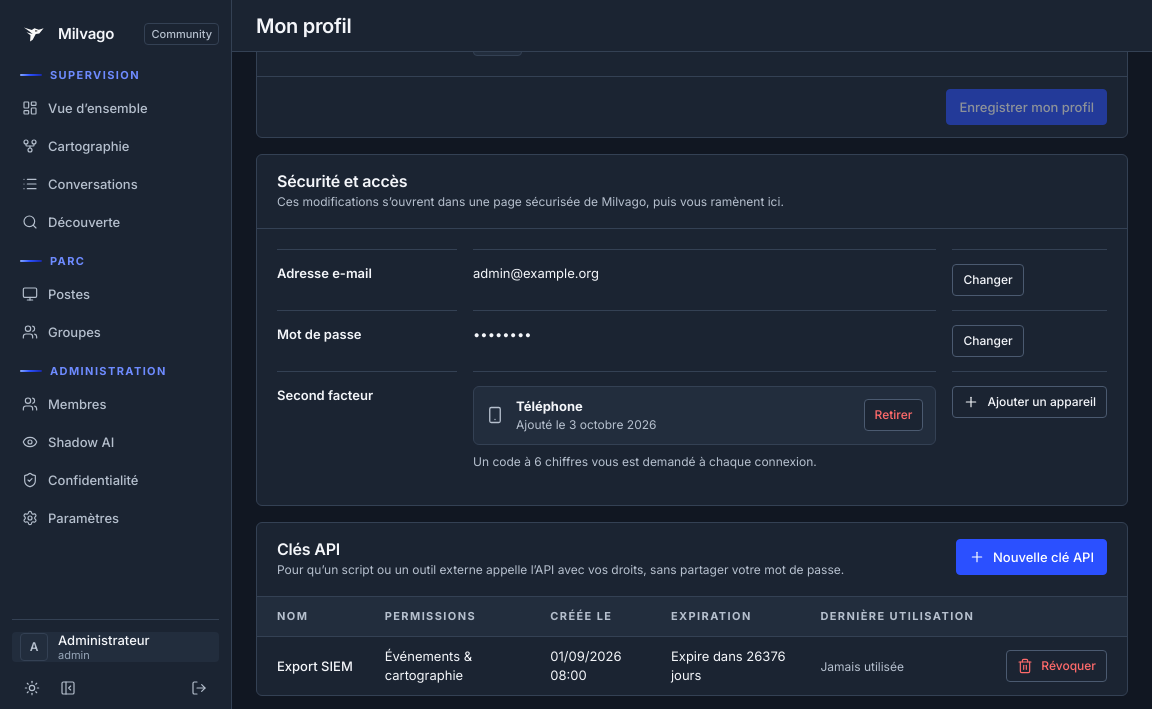
Test: Identity: API keys on the profile page › revokes a key after an inline confirmation
(page scrolled)
Click the button "Révoquer": (1057, 666) top-left (1006, 650), bottom-right (1107, 682)
(page scrolled)
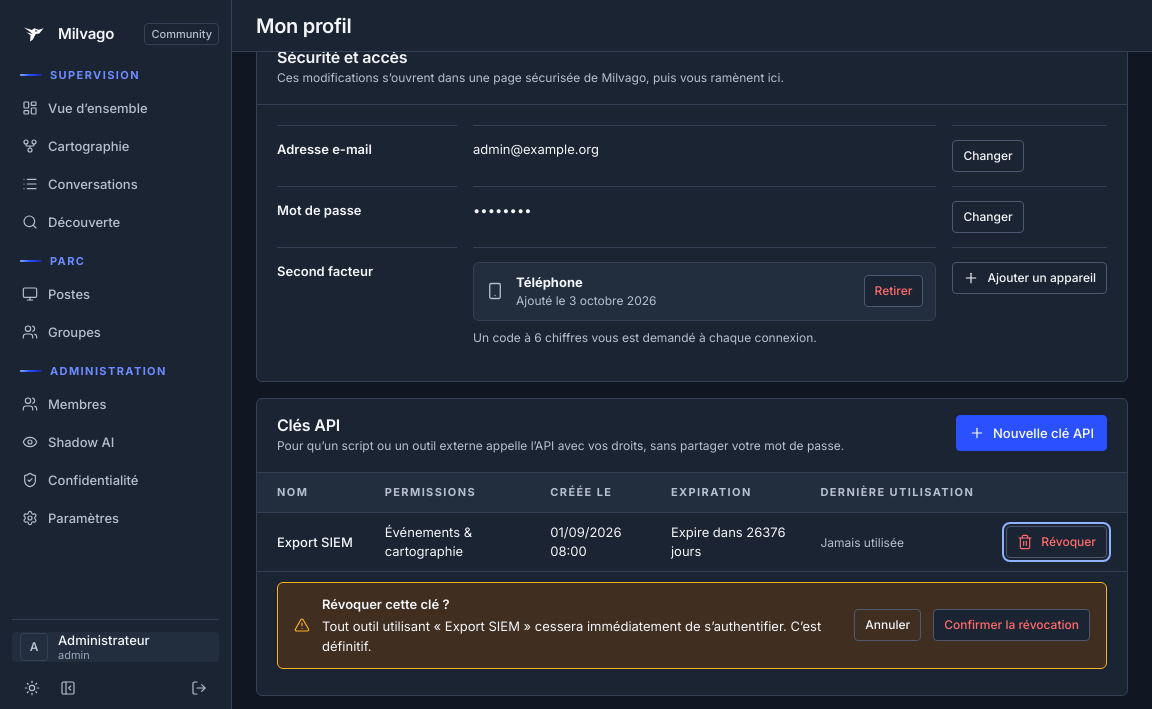
Click the button "Annuler": (888, 625) top-left (854, 609), bottom-right (921, 641)
(page scrolled)
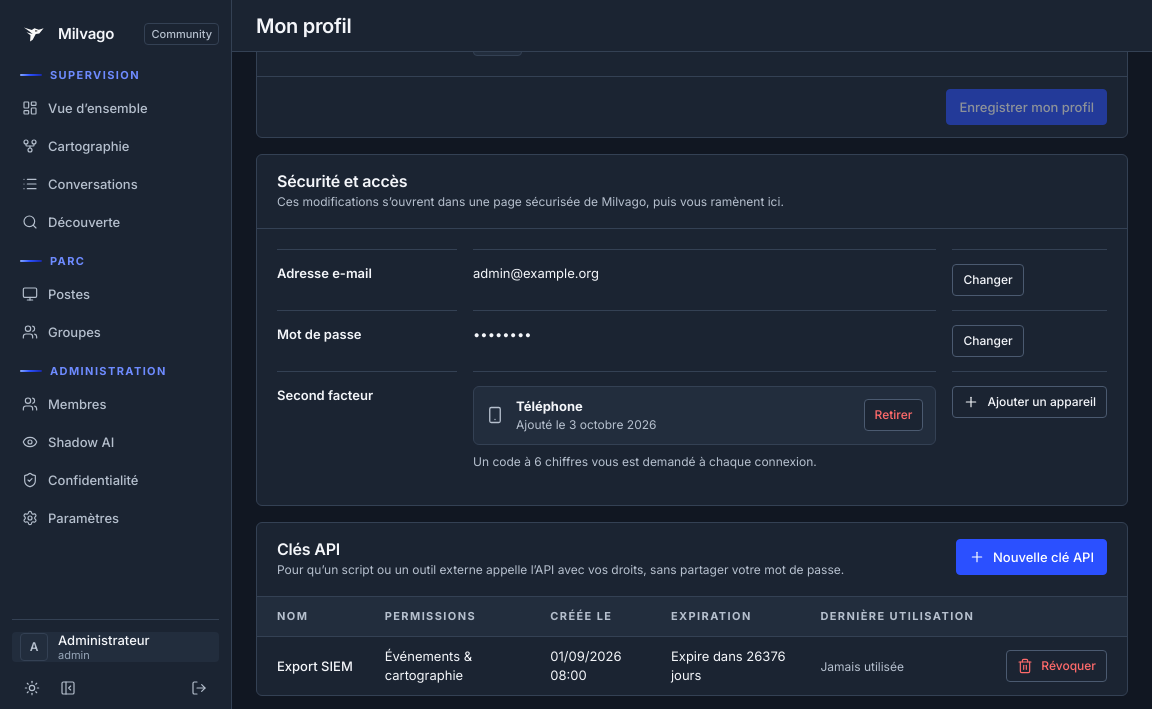
Click the button "Révoquer": (1057, 666) top-left (1006, 650), bottom-right (1107, 682)
(page scrolled)
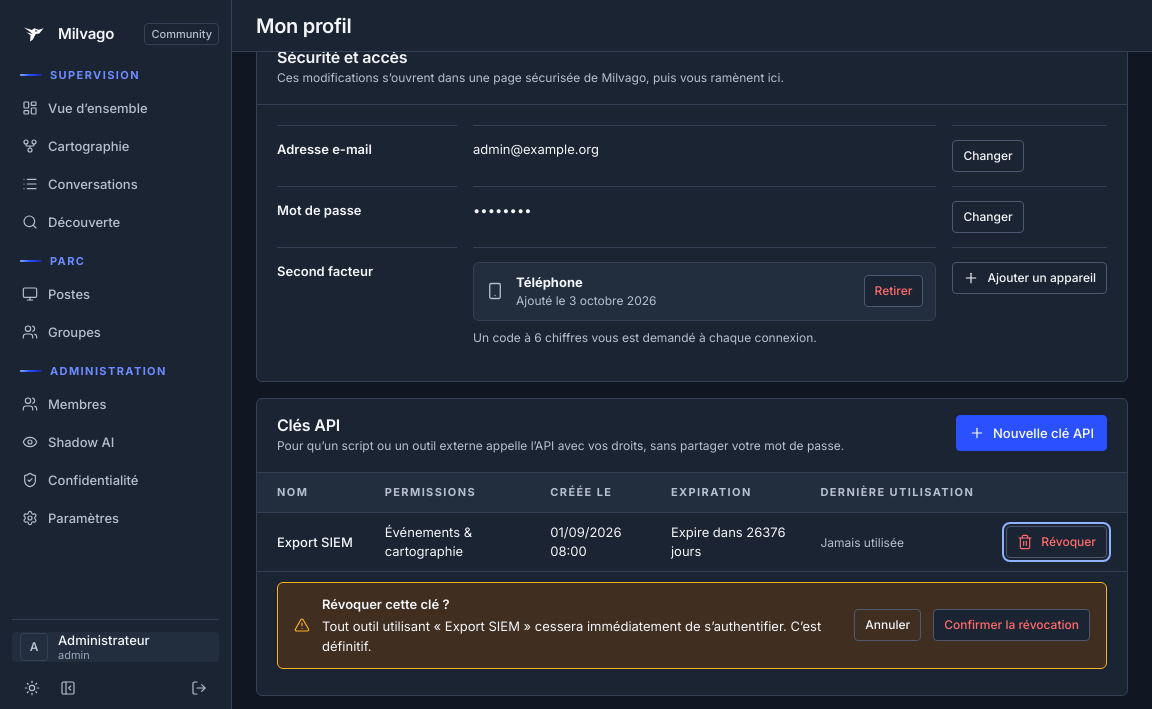
Click the button "Confirmer la révocation": (1012, 625) top-left (933, 609), bottom-right (1090, 641)
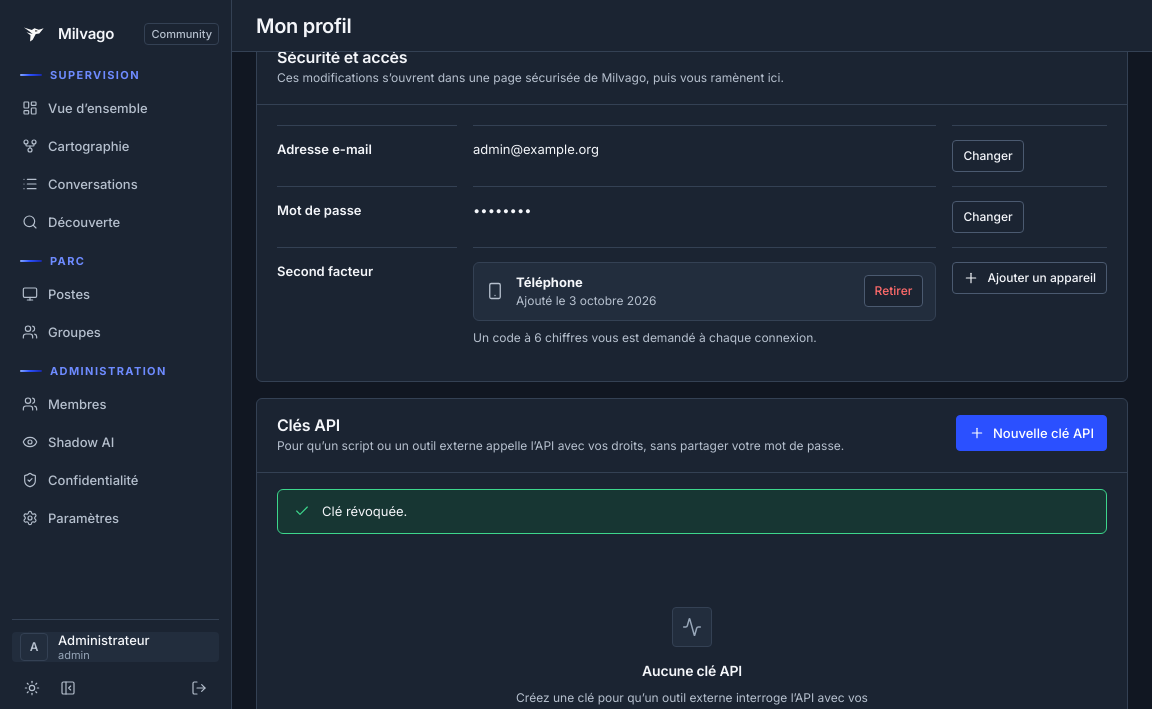
Expected: the text "Clé révoquée." is shown, top-left (277, 489), bottom-right (1107, 534)
